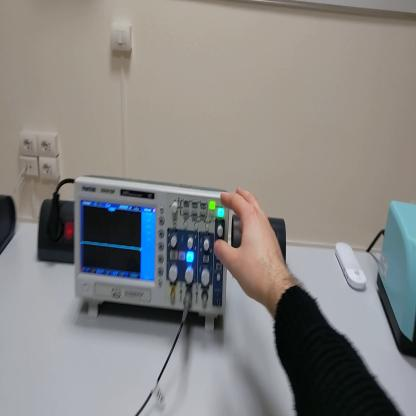hand: (215, 188, 284, 303)
oscilloscope: (72, 177, 229, 338)
socket: (37, 199, 73, 264), (2, 196, 17, 254)
welder station: (378, 198, 416, 358)
